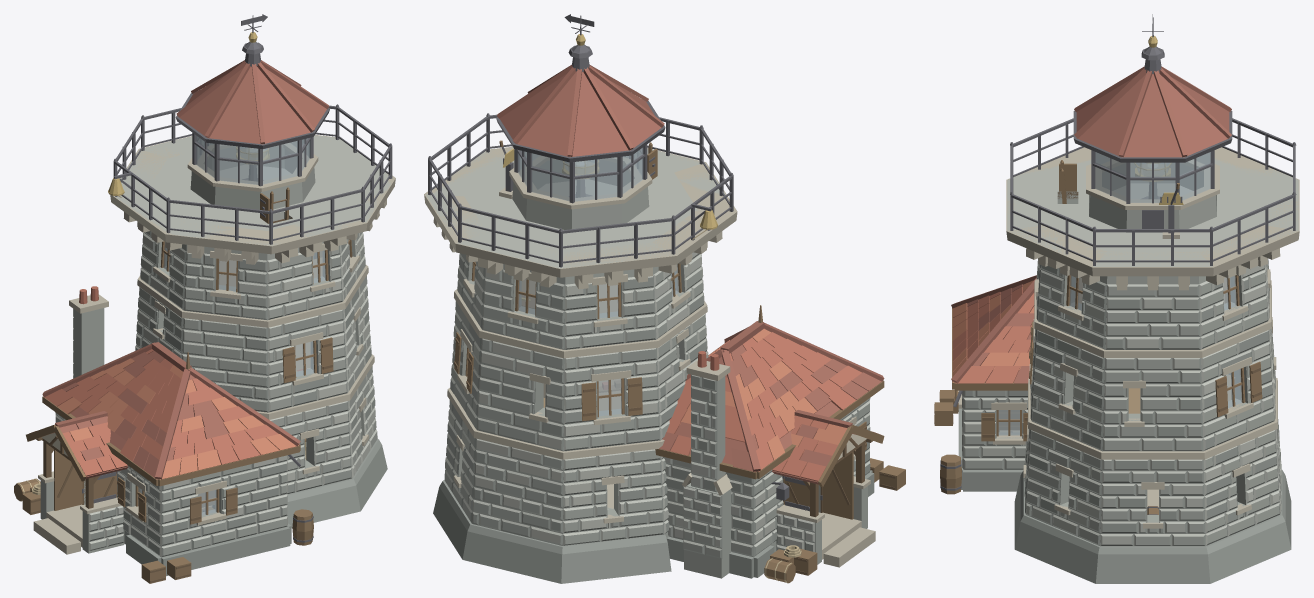
File: lastlight.glb
3 renders of one model, left to right at view 1: azimuth 30°, elevation 25°; view 2: azimuth 150°, elevation 25°; view 3: azimuth 270°, elevation 25°, orthographic. The views are drawn at different scales.
Visible parts, largest first — view 1: Lastlight_Roof, Lastlight_UpperShellKeeper, Lastlight_ShellWing, Lastlight_UpperGallery, Lastlight_UpperFloorGallery, Lastlight_UpperShellWatch, Lastlight_ShellTower, Lastlight_UpperLantern, Lastlight_ShellPlinth, Lastlight_ShellPorch, Lastlight_GlazingLantern, Lastlight_UpperShellString (+6 smaller); view 2: Lastlight_Roof, Lastlight_UpperShellKeeper, Lastlight_ShellTower, Lastlight_UpperGallery, Lastlight_UpperShellWatch, Lastlight_UpperFloorGallery, Lastlight_ShellPlinth, Lastlight_UpperLantern, Lastlight_ShellWing, Lastlight_UpperShellString, Lastlight_GlazingLantern, Lastlight_ShellPorch (+6 smaller); view 3: Lastlight_UpperShellKeeper, Lastlight_ShellTower, Lastlight_Roof, Lastlight_UpperShellWatch, Lastlight_UpperGallery, Lastlight_UpperFloorGallery, Lastlight_ShellPlinth, Lastlight_UpperLantern, Lastlight_ShellWing, Lastlight_UpperShellString, Lastlight_GlazingLantern, Lastlight_Yard (+5 smaller).
Boxes of the visible parts, x1,y1,x2,y2 form: Lastlight_Roof: (26, 14, 329, 486); Lastlight_UpperShellKeeper: (135, 252, 371, 412); Lastlight_ShellWing: (55, 412, 291, 576); Lastlight_UpperGallery: (108, 104, 395, 264); Lastlight_UpperFloorGallery: (114, 135, 393, 245); Lastlight_UpperShellWatch: (140, 231, 365, 320); Lastlight_ShellTower: (270, 366, 377, 494); Lastlight_UpperLantern: (187, 133, 318, 209); Lastlight_ShellPlinth: (287, 439, 387, 527); Lastlight_ShellPorch: (36, 437, 124, 553); Lastlight_GlazingLantern: (196, 135, 310, 184); Lastlight_UpperShellString: (137, 265, 374, 419); Lastlight_Roof: (496, 14, 884, 578); Lastlight_UpperShellKeeper: (450, 301, 708, 451); Lastlight_ShellTower: (444, 400, 669, 545); Lastlight_UpperGallery: (424, 113, 737, 289); Lastlight_UpperShellWatch: (457, 252, 704, 349); Lastlight_UpperFloorGallery: (425, 148, 725, 268); Lastlight_ShellPlinth: (433, 480, 671, 583); Lastlight_UpperLantern: (509, 144, 652, 229); Lastlight_ShellWing: (664, 398, 874, 578); Lastlight_UpperShellString: (447, 289, 707, 459); Lastlight_GlazingLantern: (518, 148, 643, 201); Lastlight_ShellPorch: (776, 439, 872, 564); Lastlight_UpperShellKeeper: (1029, 317, 1276, 451); Lastlight_ShellTower: (1023, 418, 1281, 546); Lastlight_Roof: (951, 14, 1232, 390); Lastlight_UpperShellWatch: (1035, 200, 1270, 349); Lastlight_UpperGallery: (1006, 118, 1299, 290); Lastlight_UpperFloorGallery: (1007, 158, 1298, 266); Lastlight_ShellPlinth: (1014, 470, 1291, 583); Lastlight_UpperLantern: (1086, 150, 1219, 232); Lastlight_ShellWing: (954, 390, 1027, 491); Lastlight_UpperShellString: (1028, 280, 1277, 459); Lastlight_GlazingLantern: (1095, 152, 1210, 202); Lastlight_Yard: (934, 390, 962, 494).
Bounding box in the file's own units: 11.98 × 15.4 × 10.04.
